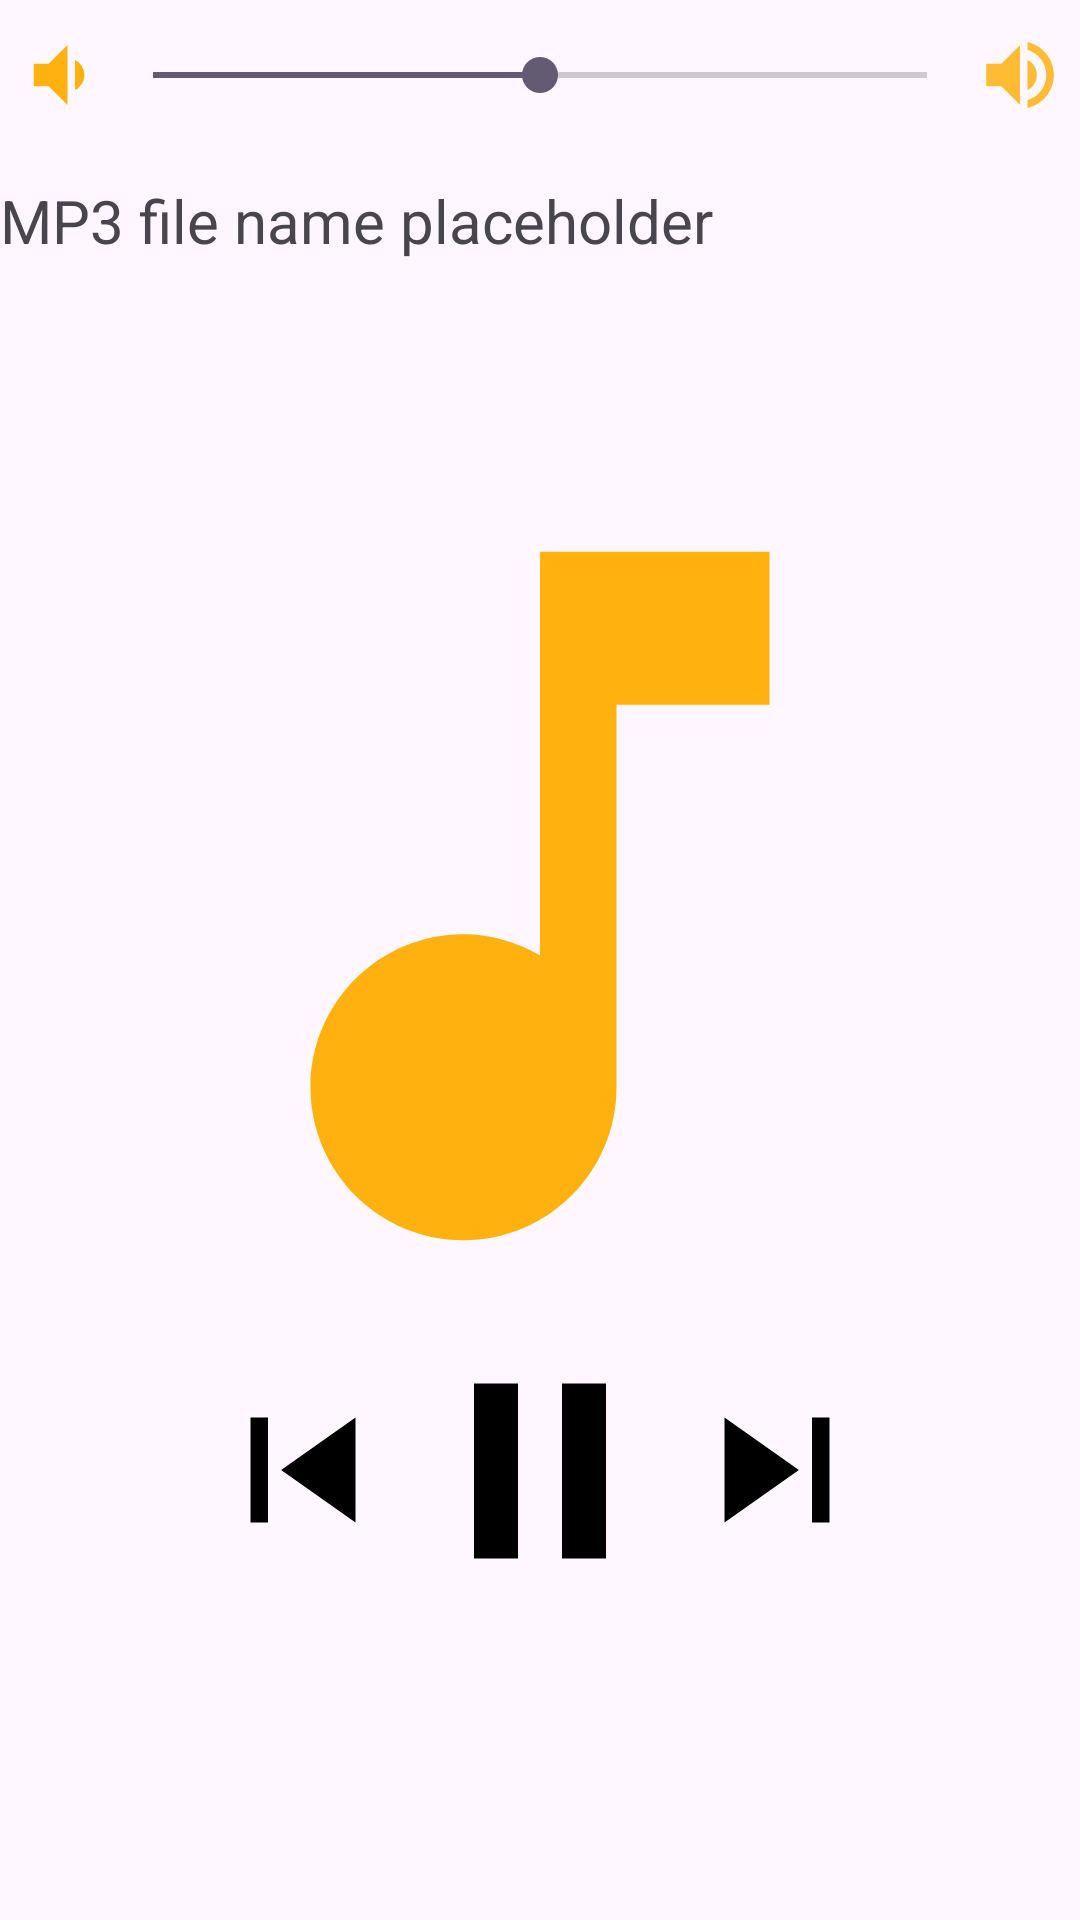

Icons on this 1080×1920 Android screen, each with its box as bbox=(x1, y1, x2, y2):
next: bbox=(724, 1417, 830, 1523)
previous: bbox=(250, 1417, 356, 1523)
volume down: bbox=(33, 45, 85, 105)
volume up: bbox=(986, 42, 1054, 108)
